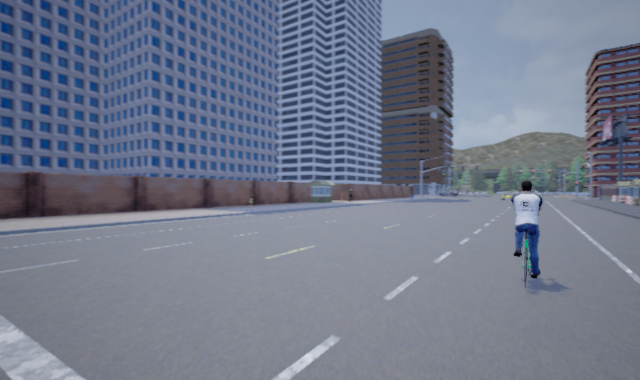bike: (510, 180, 542, 295)
pedestrian: (246, 195, 256, 211), (346, 186, 354, 202)
